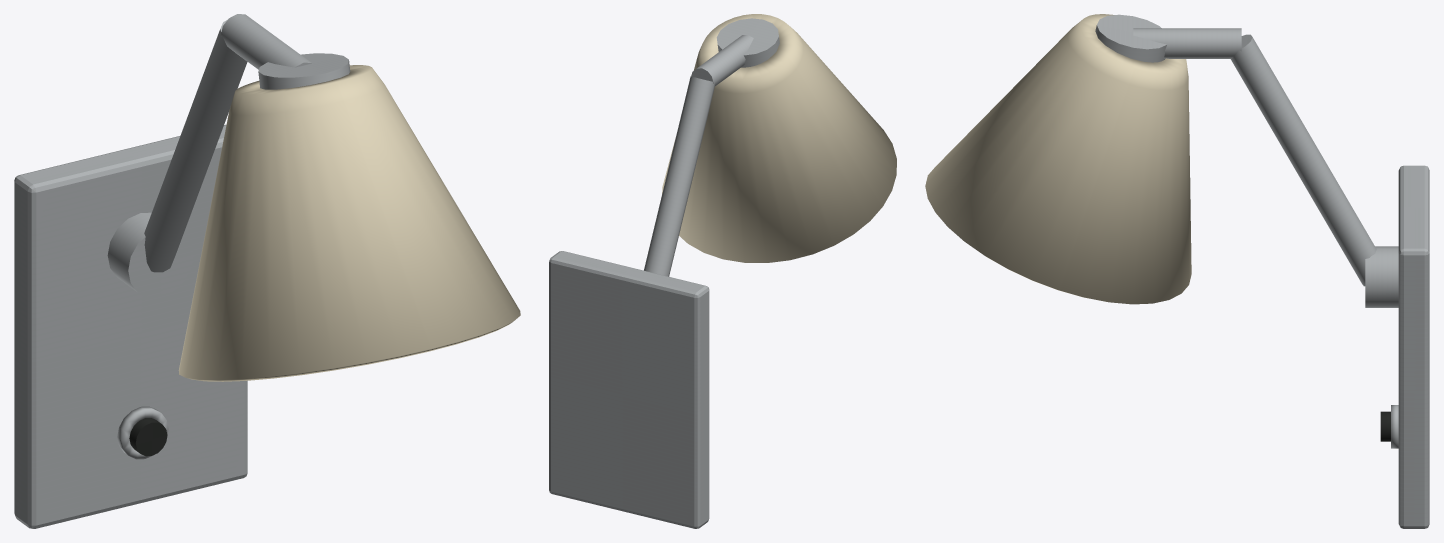
The model's file is mb01_bedside_reading_lamp_lod0.glb.
3 renders of one model, left to right at view 1: azimuth 30°, elevation 25°; view 2: azimuth 150°, elevation 25°; view 3: azimuth 270°, elevation 25°, orthographic. The views are drawn at different scales.
Parts seen in each view (by area): view 1: opaque_ivory_shade, formed_wall_backplate, fixed_arm_rise, arm_wall_socket, fixed_arm_shade_link, shade_neck_cap, pushbutton_charcoal, pushbutton_metal_bezel; view 2: formed_wall_backplate, opaque_ivory_shade, fixed_arm_rise, shade_neck_cap, fixed_arm_shade_link; view 3: opaque_ivory_shade, formed_wall_backplate, fixed_arm_rise, fixed_arm_shade_link, shade_neck_cap, arm_wall_socket.
Boxes of the visible parts, x1=… form: opaque_ivory_shade: x1=178, y1=65, x2=520, y2=381; formed_wall_backplate: x1=14, y1=124, x2=247, y2=528; fixed_arm_rise: x1=144, y1=20, x2=247, y2=272; arm_wall_socket: x1=107, y1=212, x2=193, y2=297; fixed_arm_shade_link: x1=220, y1=14, x2=311, y2=69; shade_neck_cap: x1=258, y1=53, x2=350, y2=89; pushbutton_charcoal: x1=129, y1=418, x2=167, y2=456; pushbutton_metal_bezel: x1=117, y1=406, x2=168, y2=459; formed_wall_backplate: x1=549, y1=251, x2=709, y2=528; opaque_ivory_shade: x1=662, y1=14, x2=896, y2=262; fixed_arm_rise: x1=644, y1=76, x2=714, y2=276; shade_neck_cap: x1=716, y1=18, x2=779, y2=67; fixed_arm_shade_link: x1=691, y1=35, x2=753, y2=86; opaque_ivory_shade: x1=925, y1=14, x2=1191, y2=304; formed_wall_backplate: x1=1398, y1=165, x2=1429, y2=528; fixed_arm_rise: x1=1230, y1=34, x2=1376, y2=286; fixed_arm_shade_link: x1=1133, y1=28, x2=1241, y2=58; shade_neck_cap: x1=1095, y1=14, x2=1166, y2=62; arm_wall_socket: x1=1365, y1=246, x2=1398, y2=307.
Size of the model in its own units: 0.11 by 0.1981 by 0.1958.
Materials: 3 (3 with a texture image).
